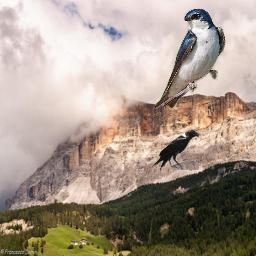Crow: (150, 128, 199, 170)
Swallow: (154, 7, 226, 109)
